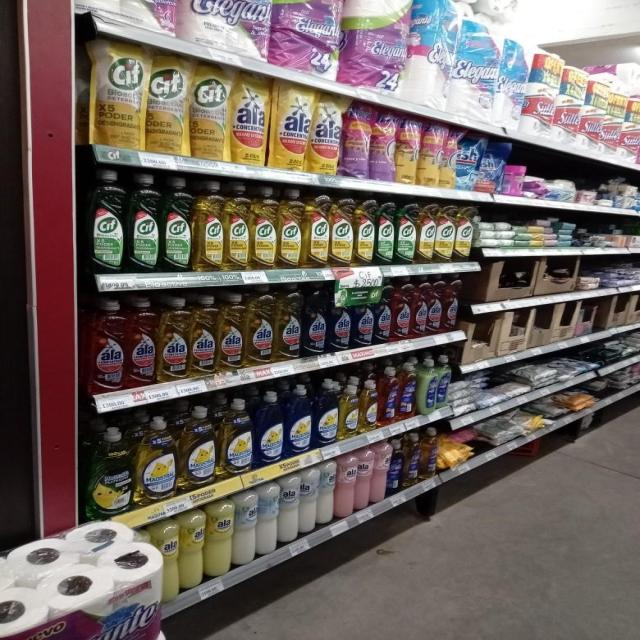ala_conc_amarillo: (157, 296, 188, 382), (246, 284, 274, 366), (189, 294, 216, 376), (217, 293, 244, 371), (275, 282, 301, 360)
ala_conc_azul: (302, 283, 326, 356), (328, 304, 351, 352), (352, 303, 373, 348), (374, 300, 391, 344)
ala_conc_rojo: (87, 299, 124, 393), (125, 297, 156, 388), (392, 278, 411, 340), (411, 277, 427, 338), (443, 275, 459, 332), (428, 276, 442, 335)
ala_crem_blanco: (280, 472, 298, 542), (300, 466, 317, 535), (319, 460, 335, 524)
ala_crem_rosado: (336, 454, 356, 518)
ala_sachet_amarillo: (231, 70, 268, 166)
cif_conc_bot_amarilla: (194, 180, 224, 273), (224, 182, 250, 271), (251, 185, 277, 270), (278, 188, 303, 269), (304, 189, 329, 268), (330, 191, 353, 267), (354, 194, 375, 266), (435, 203, 454, 263), (454, 205, 474, 262), (418, 201, 434, 264)
cif_conc_botella_verde: (85, 168, 125, 274), (127, 173, 160, 274), (162, 176, 192, 273), (395, 200, 416, 264), (376, 197, 394, 265)
cif_conc_sachet_amarillo: (90, 37, 144, 149), (146, 53, 189, 156), (191, 62, 229, 161)
magistral_con_amarillo: (136, 415, 176, 503), (179, 404, 216, 488), (218, 396, 253, 474), (339, 381, 358, 439), (360, 380, 377, 432)
magistral_con_azul: (255, 389, 282, 466), (285, 384, 312, 455), (314, 380, 338, 446)
